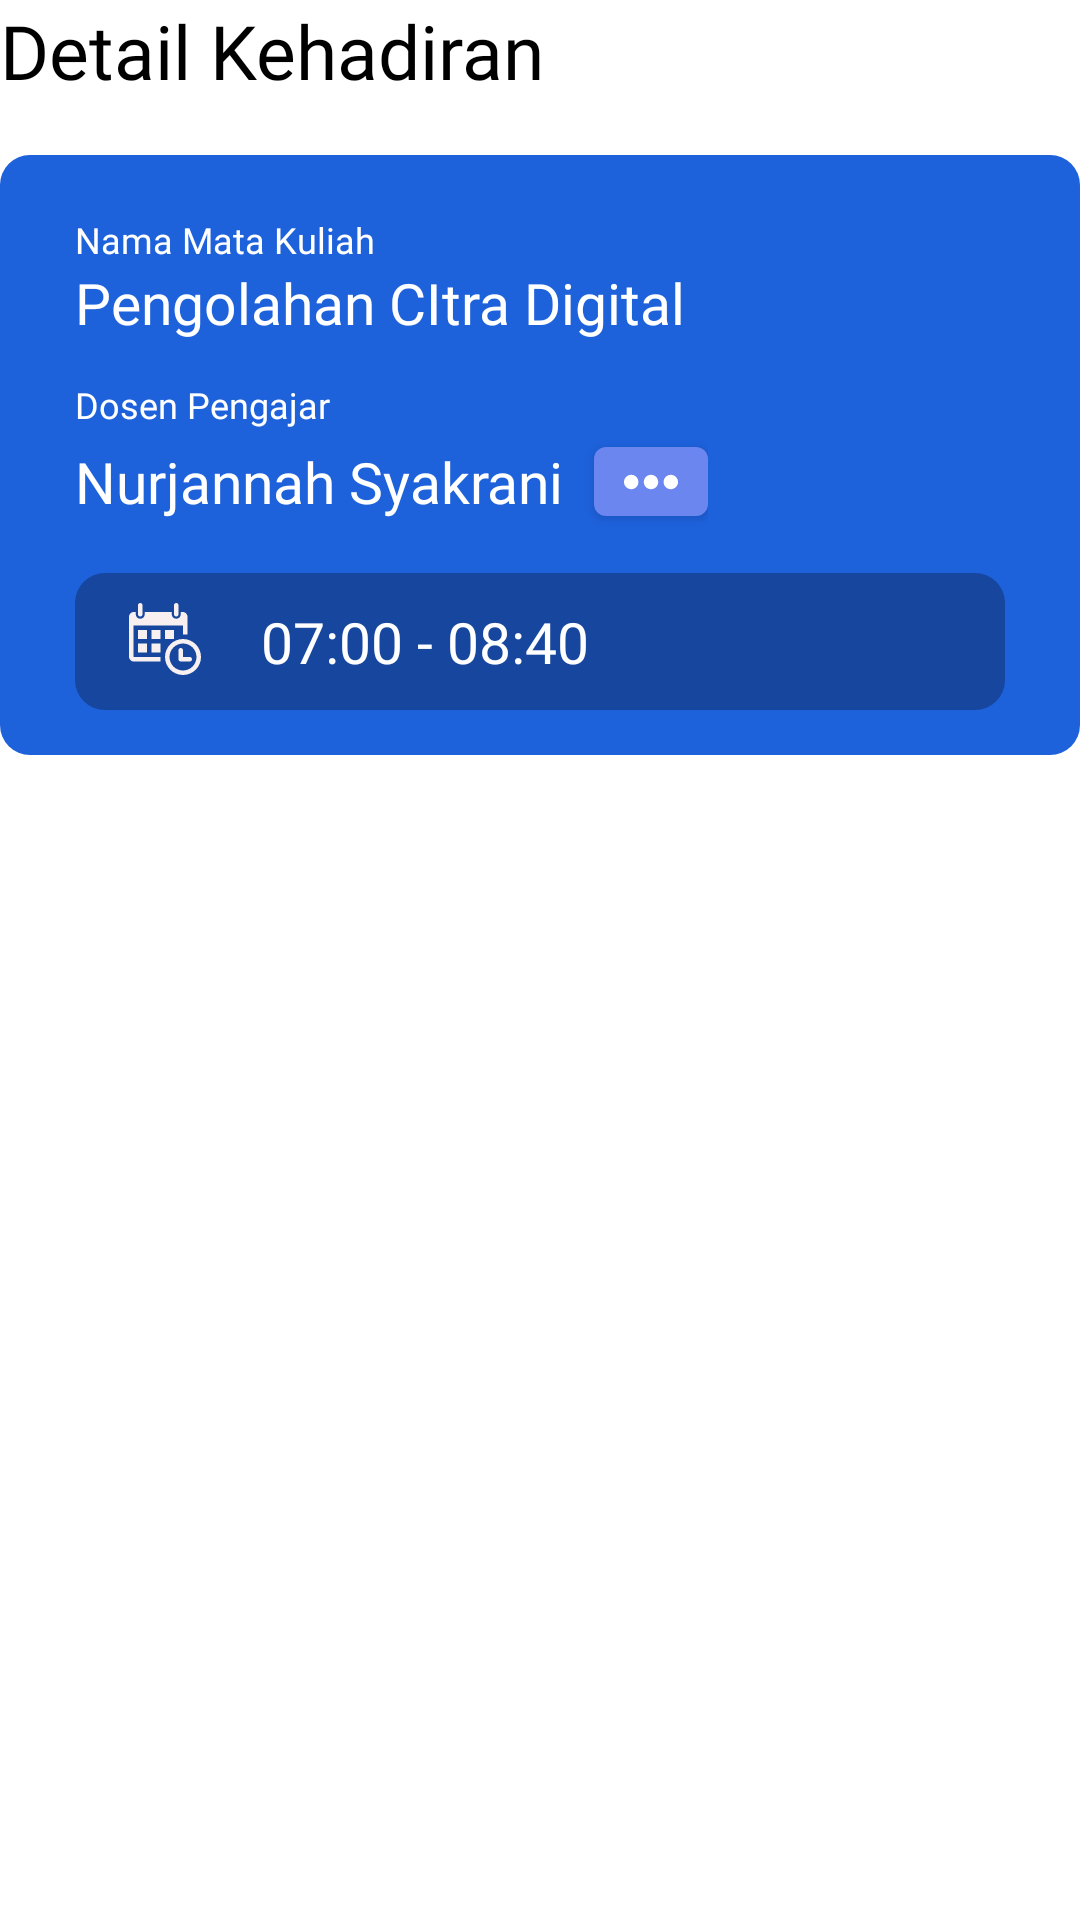

Named icons in this screenshot (1080w x 1920h) and their bounding boxes, detection(x1, y1, x2, y2):
more: detection(594, 447, 708, 516)
